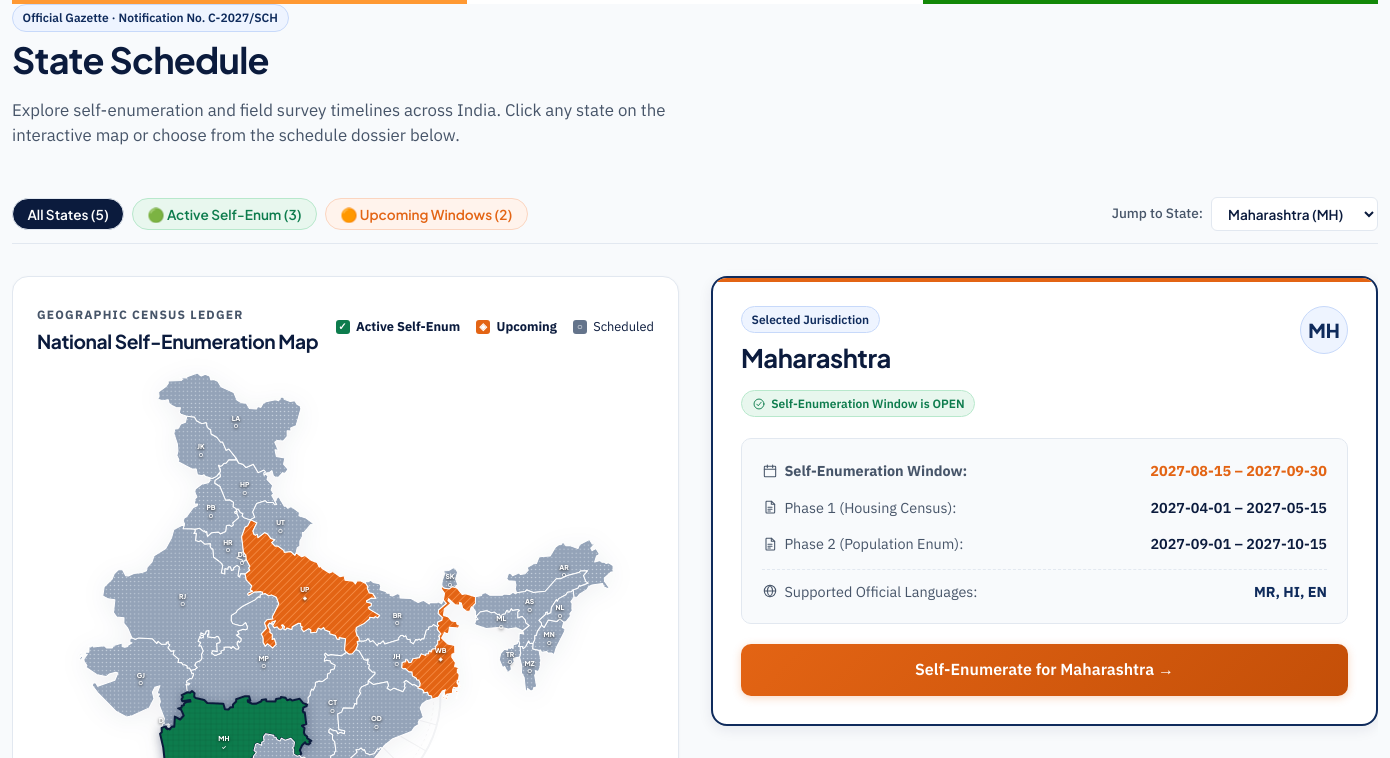
it: StateSchedule Page & Interactive India Map › updates selected jurisdiction dossier when changing state
The image size is (1390, 758).
Select Tamil Nadu via quick select
Select "Tamil Nadu (TN)" in the dropdown labelled "Jump to State:": (1294, 214) x1=1211 y1=197 x2=1378 y2=231
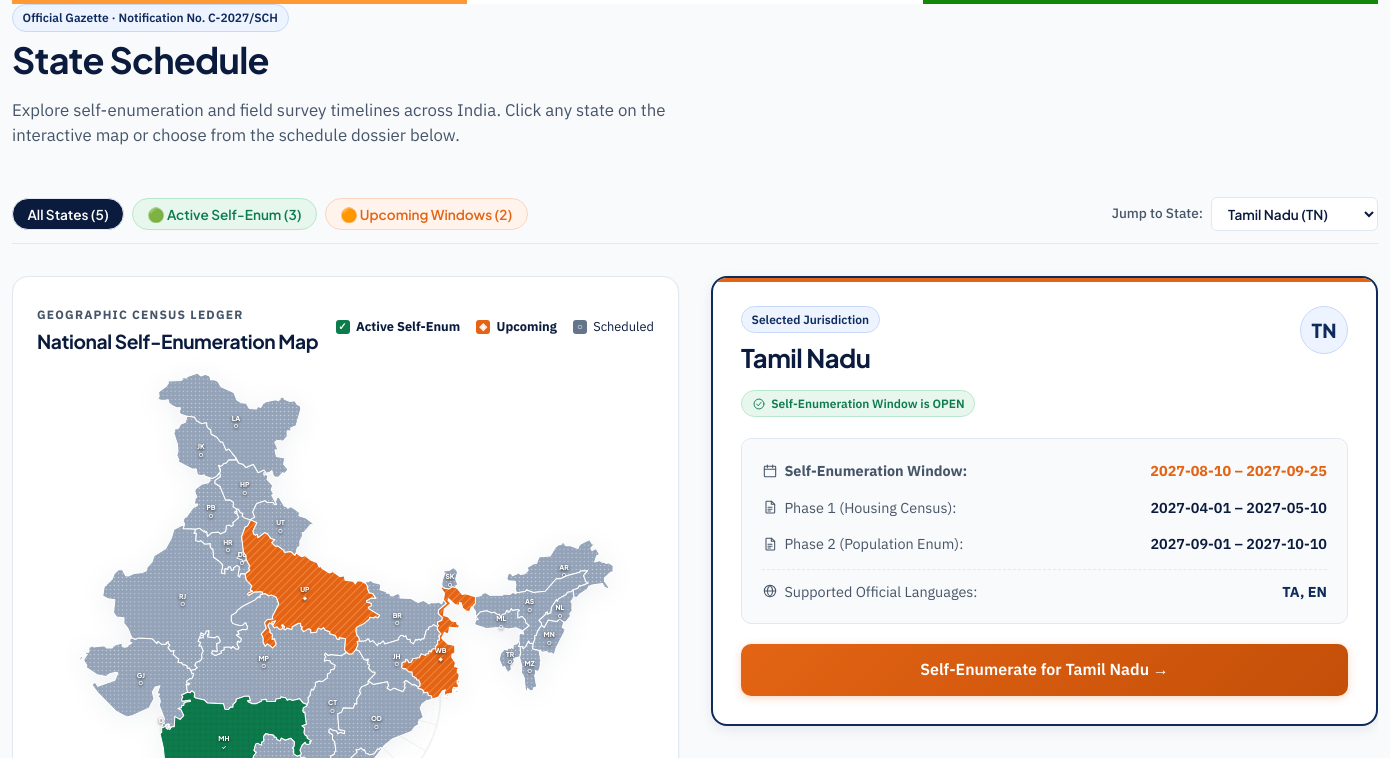
Now the link "Self-Enumerate for Tamil Nadu →" is shown, box x1=741 y1=644 x2=1348 y2=696
